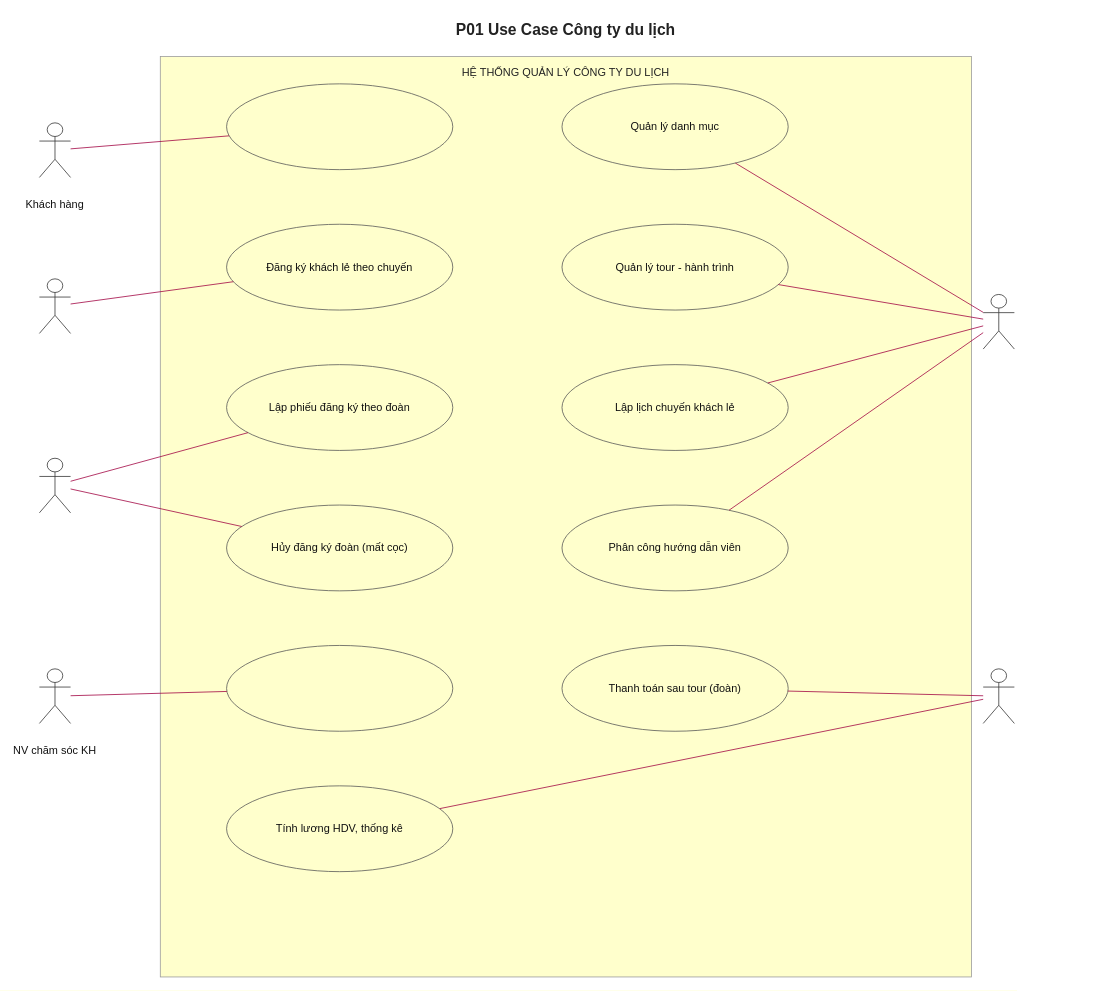
This 1114x991 diagram has some shape labels left out. The shapes that lost their labels are listed below. From the top down, each one's centre as x and y in pixels, then its label:
[339,126]: Xem thông tin tour
[55,305]: NV bán vé
[998,321]: NV điều hành
[55,485]: NV kinh doanh
[339,688]: Khảo sát khách hàng
[998,695]: Kế toán
